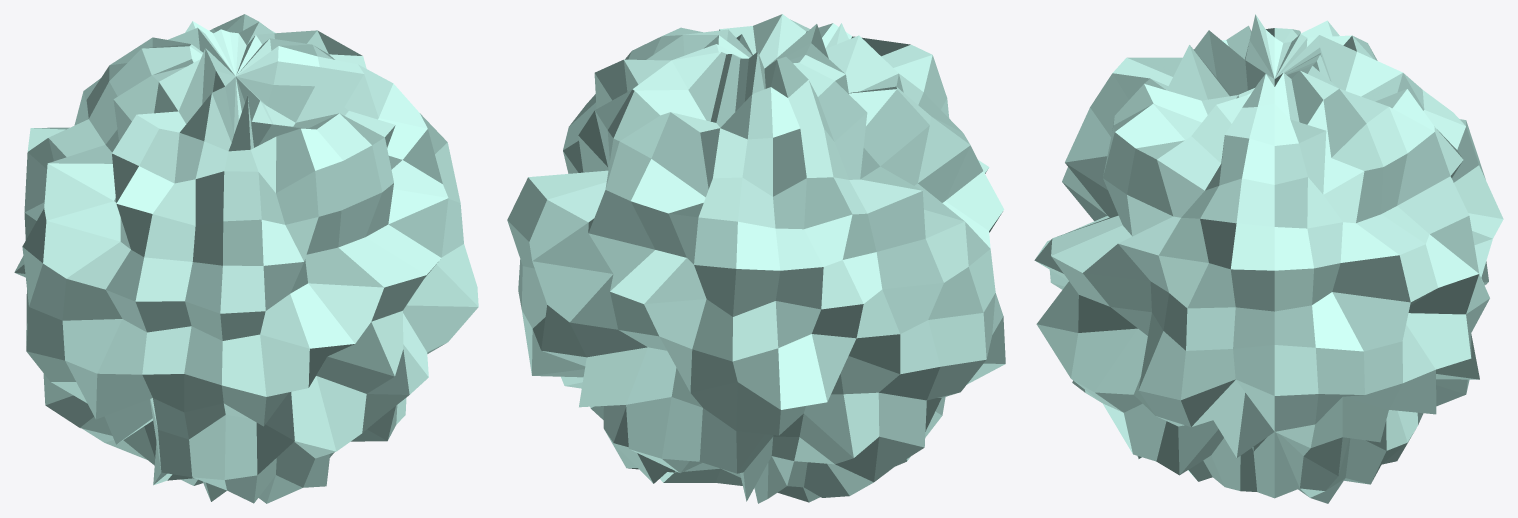
The model's file is glass6.glb.
3 views of the same model, side by side, from view 1: azimuth 30°, elevation 25°; view 2: azimuth 150°, elevation 25°; view 3: azimuth 270°, elevation 25° (orthographic). The views are drawn at different scales.
Visible parts, largest first — view 1: Sphere; view 2: Sphere; view 3: Sphere.
Boxes of the visible parts, x1=… form: Sphere: x1=14, y1=14, x2=478, y2=503; Sphere: x1=507, y1=14, x2=1005, y2=503; Sphere: x1=1034, y1=14, x2=1503, y2=503.
Bounding box in the file's own units: 2.73 × 2.87 × 2.73.
